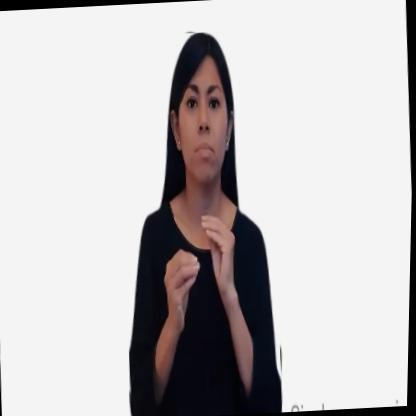Fix: (113, 28, 291, 416)
